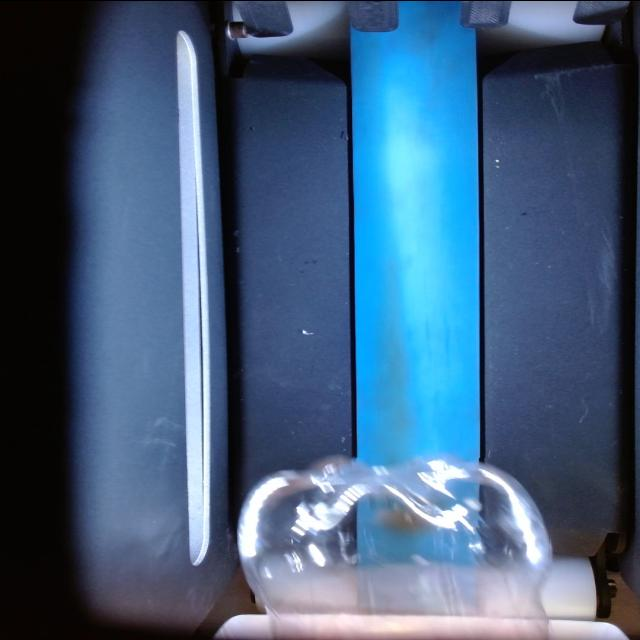bottle: (238, 457, 550, 640)
